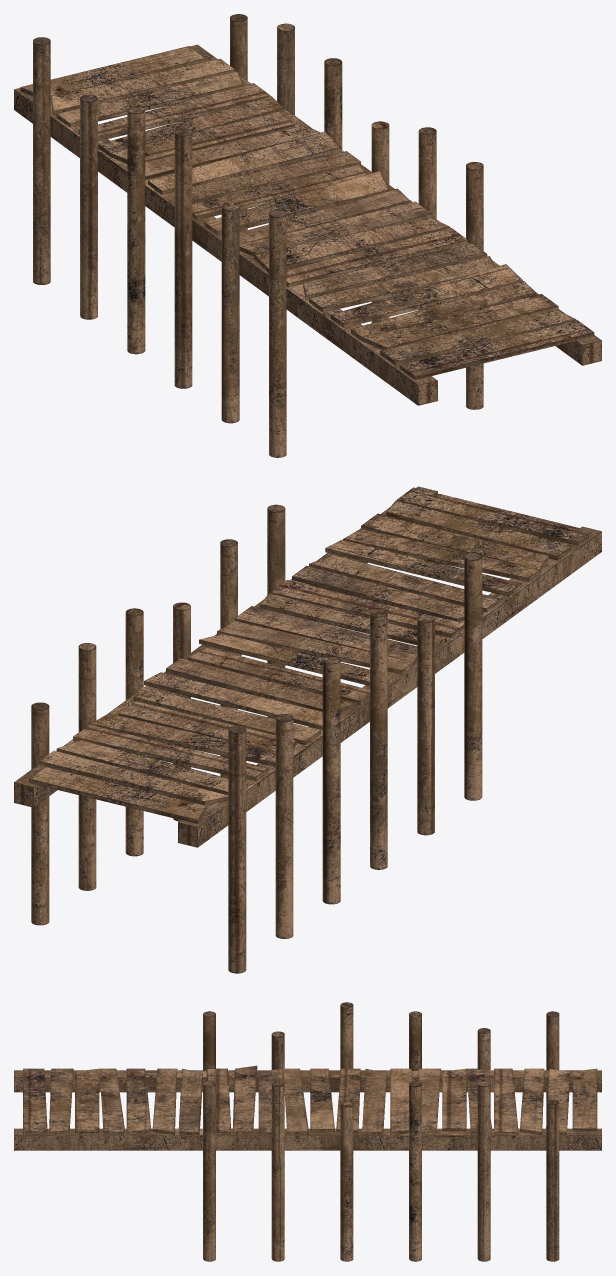
The model's file is clean_pier.glb.
3 renders of one model, top to bottom at view 1: azimuth 30°, elevation 25°; view 2: azimuth 150°, elevation 25°; view 3: azimuth 270°, elevation 25°, orthographic. The views are drawn at different scales.
Parts seen in each view (by area): view 1: dock; view 2: dock; view 3: dock.
Boxes of the visible parts, bbox=[...] form: dock: bbox=[14, 14, 601, 457]; dock: bbox=[14, 486, 601, 973]; dock: bbox=[14, 1002, 601, 1261].
Size of the model in its own units: 3.52 by 4 by 11.6.
Materials: 1 (1 with a texture image).
